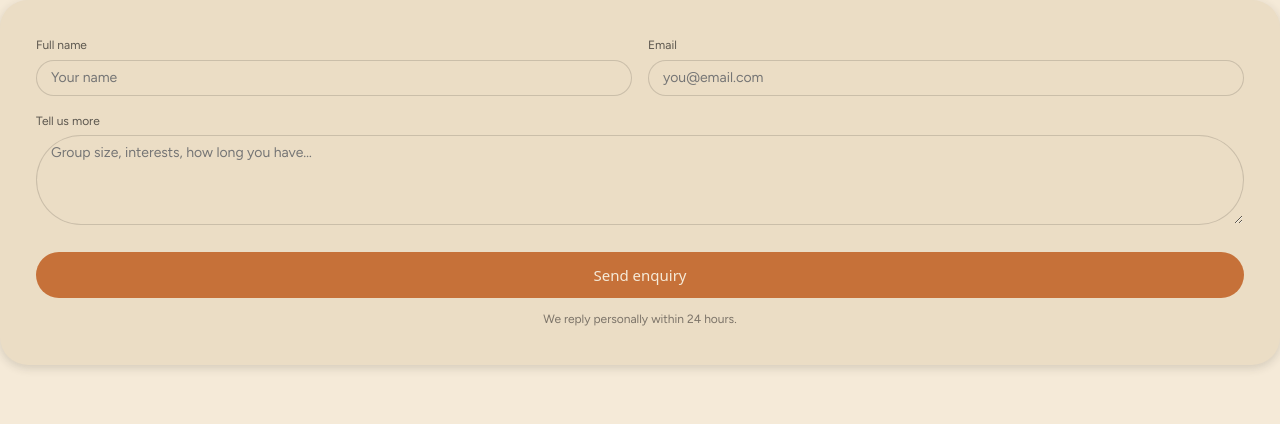
GIVEN the API refuses the enquiry › WHEN the server errors THEN shows a generic failure
The image size is (1280, 424).
Type "Ada Lovelace" into the field labelled "Full name" at [334, 78], box 36,60 -> 632,96
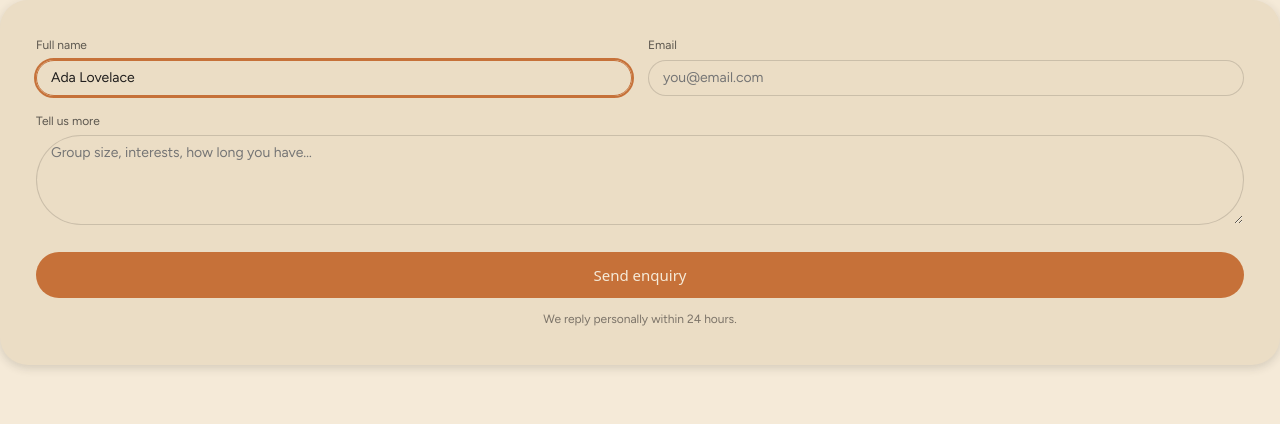
Type "ada@example.com" into the field labelled "Email" at [946, 78], box 648,60 -> 1244,96
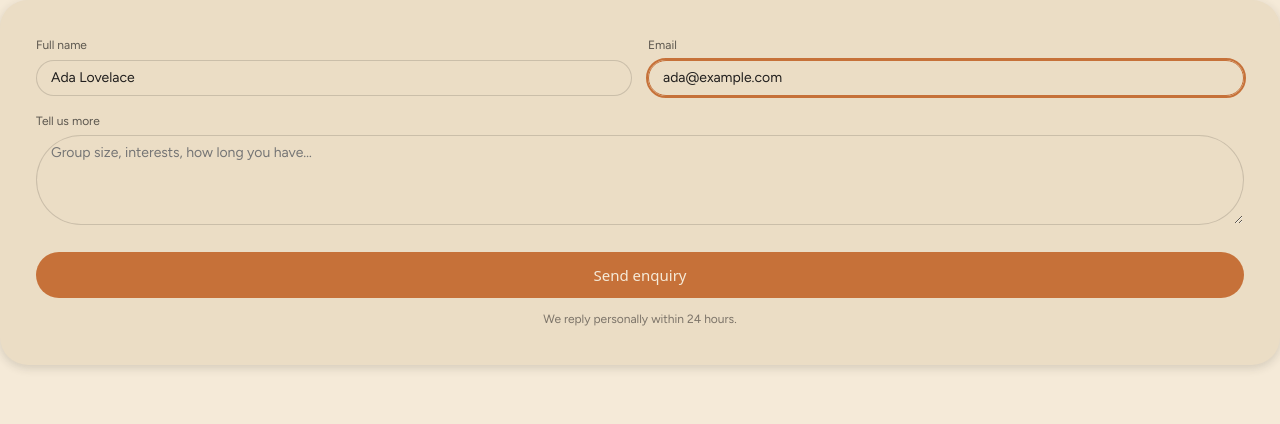
Click the button "Send enquiry" at [640, 275], box 36,252 -> 1244,298
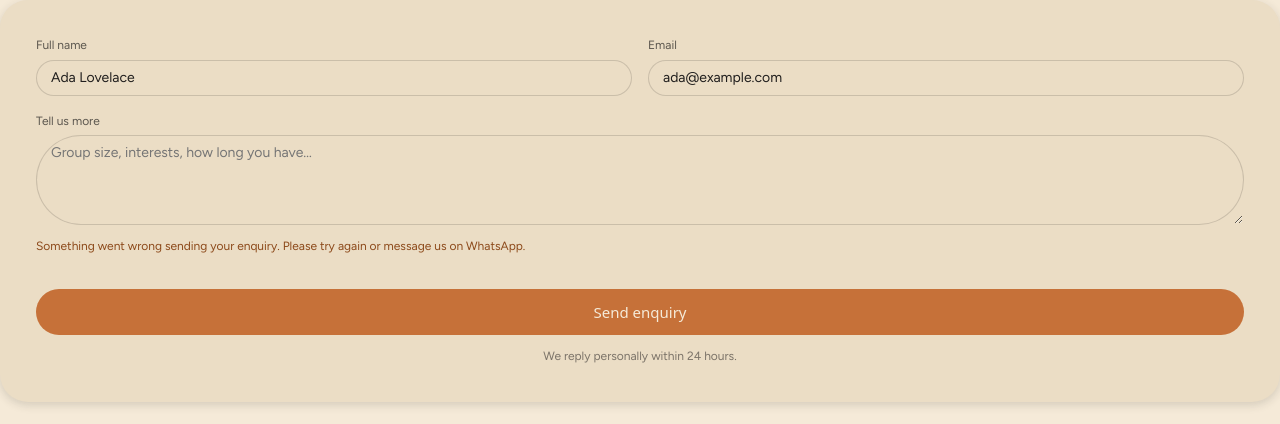
expect the message shows "Something went wrong": met, box 36,239 -> 525,253
